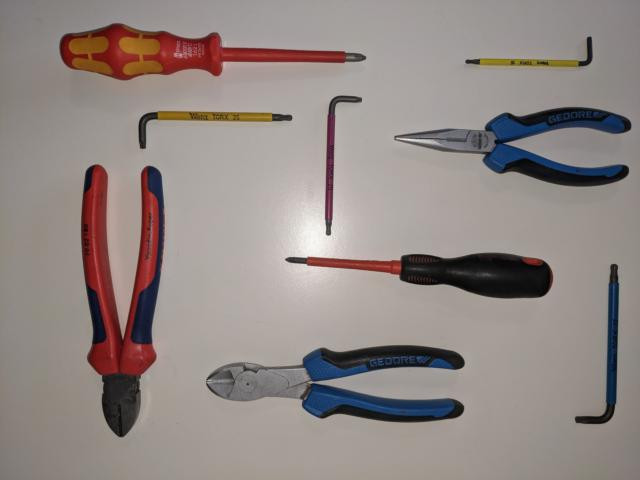Inbusschlüssel: (573, 259, 622, 428), (136, 109, 296, 153), (321, 94, 364, 239), (461, 33, 596, 72)
Schraubendreher: (58, 20, 371, 84), (282, 249, 556, 302)
Seitenschneider: (76, 162, 168, 441), (203, 340, 469, 427)
Zange: (392, 104, 634, 191)
